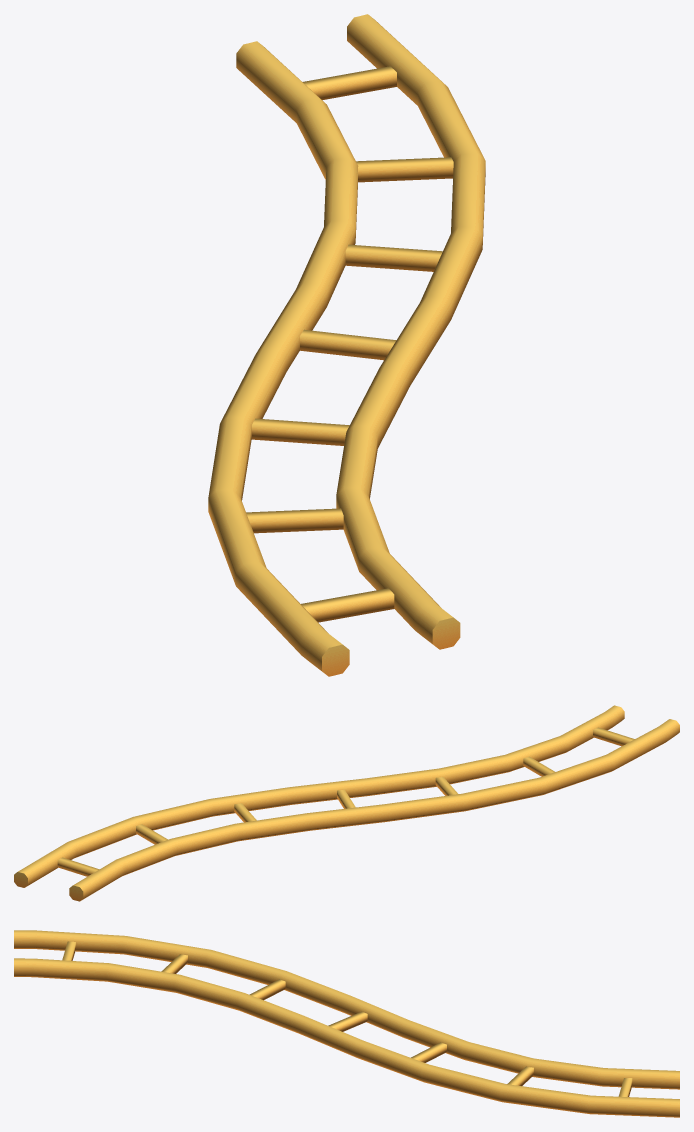
Rendered from coaster-mouse-curve.glb.
The picture shows the model from 3 angles, top to bottom: view 1: azimuth 30°, elevation 25°; view 2: azimuth 150°, elevation 25°; view 3: azimuth 270°, elevation 25°; orthographic projection. The views are drawn at different scales.
Visible parts, largest first — view 1: coaster-mouse-curve; view 2: coaster-mouse-curve; view 3: coaster-mouse-curve.
Boxes of the visible parts, box(x1,y1,x2,y2) form: coaster-mouse-curve: box(208, 14, 485, 676); coaster-mouse-curve: box(14, 705, 679, 901); coaster-mouse-curve: box(14, 930, 679, 1117).
Size of the model in its own units: 7.5 by 0.3 by 12.
Materials: 1 (1 with a texture image).
